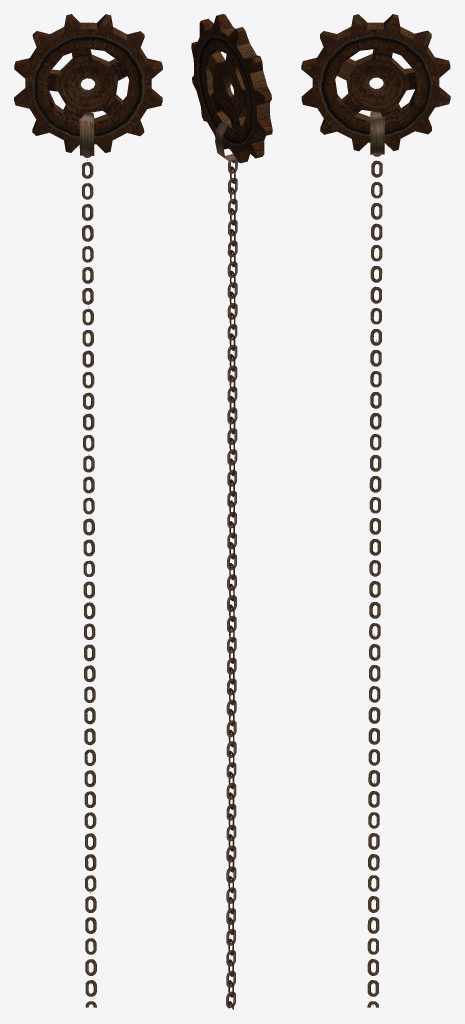
Rendered from gear_club4_5m.fbx.
3 views of the same model, side by side, from view 1: azimuth 90°, elevation 25°; view 2: azimuth 210°, elevation 25°; view 3: azimuth 270°, elevation 25° (orthographic).
Visible parts, largest first — view 1: mesh_1, mesh_0; view 2: mesh_1, mesh_0; view 3: mesh_1, mesh_0.
Part boxes in pixels (bbox=[...]): mesh_1: bbox=[14, 14, 162, 152]; mesh_0: bbox=[79, 113, 96, 1007]; mesh_1: bbox=[191, 14, 272, 163]; mesh_0: bbox=[215, 120, 237, 1009]; mesh_1: bbox=[301, 14, 450, 151]; mesh_0: bbox=[367, 111, 384, 1007].
Bounding box in the file's own units: 18.44 × 583 × 79.34.
Materials: 2 (2 with a texture image).
